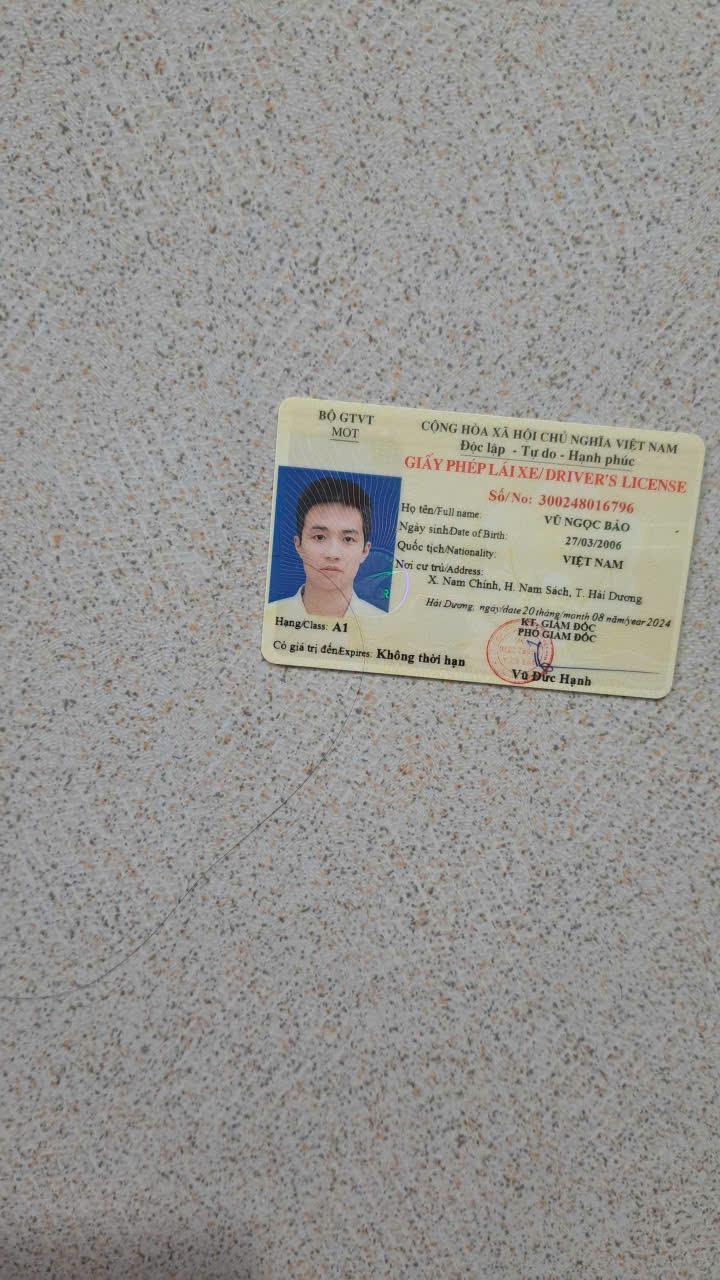gplx: (254, 391, 712, 708)
